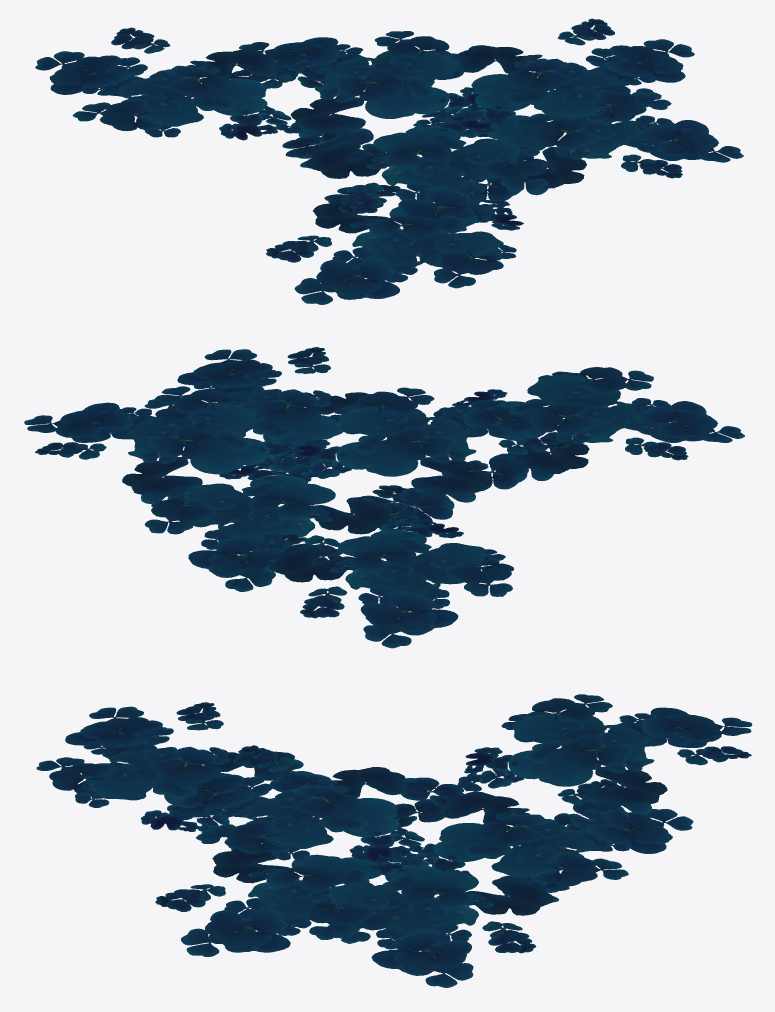
3 views of the same model, one above another, from view 1: azimuth 30°, elevation 25°; view 2: azimuth 150°, elevation 25°; view 3: azimuth 270°, elevation 25° (orthographic). The views are drawn at different scales.
Parts seen in each view (by area): view 1: SM_FH_Sorrel_E_LOD0; view 2: SM_FH_Sorrel_E_LOD0; view 3: SM_FH_Sorrel_E_LOD0.
Part boxes in pixels (<box>): SM_FH_Sorrel_E_LOD0: <box>35,18,743,304</box>; SM_FH_Sorrel_E_LOD0: <box>24,347,744,648</box>; SM_FH_Sorrel_E_LOD0: <box>36,694,752,987</box>.
Size of the model in its own units: 0.7674 by 0.0438 by 0.8227.
Materials: 1 (1 with a texture image).
